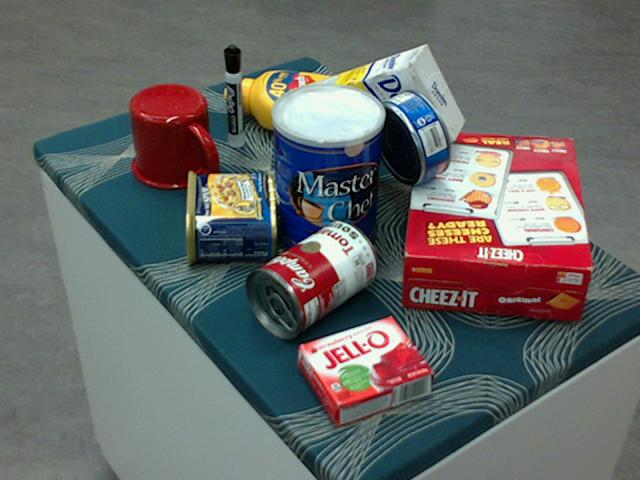cracker_box: (399, 130, 591, 319)
gelatin_box: (298, 315, 434, 425)
large_marker: (222, 44, 245, 148)
master_chef_can: (270, 85, 383, 267)
mug: (129, 83, 217, 190)
mustard_bottle: (222, 69, 391, 143)
potted_meat_can: (184, 171, 276, 265)
sugar_box: (272, 45, 463, 176)
tomato_soup_can: (243, 221, 377, 337)
tuna_fish_can: (371, 87, 451, 183)
